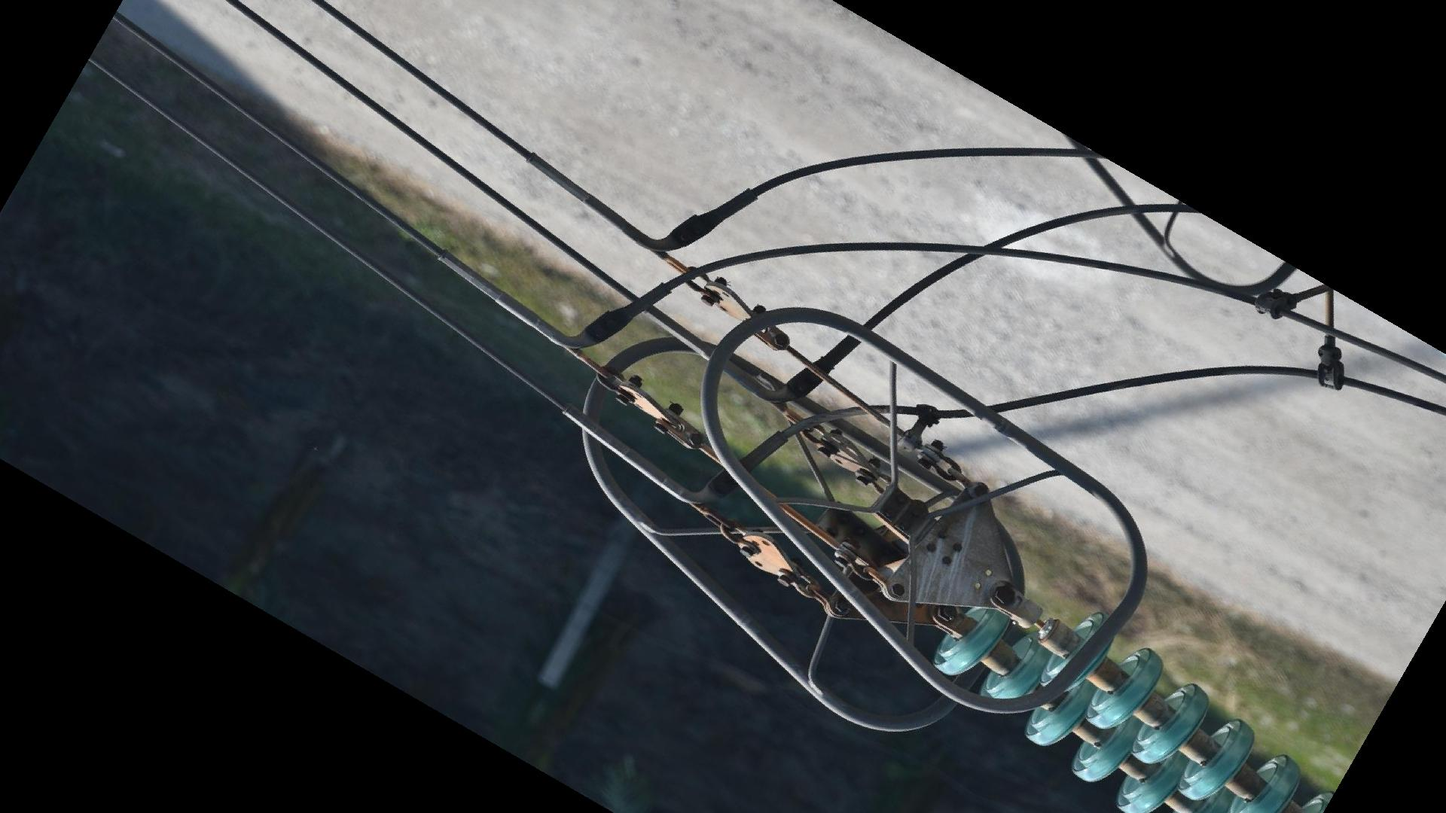insulator: (925, 599, 1338, 813)
